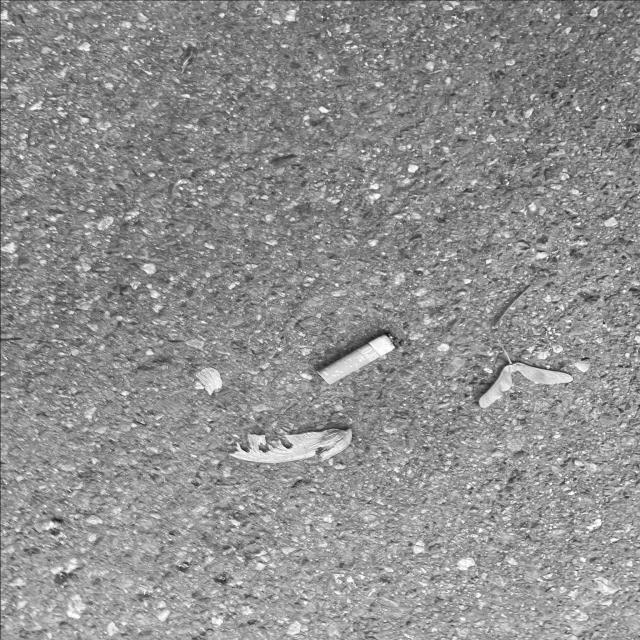other waste: (316, 331, 396, 385)
